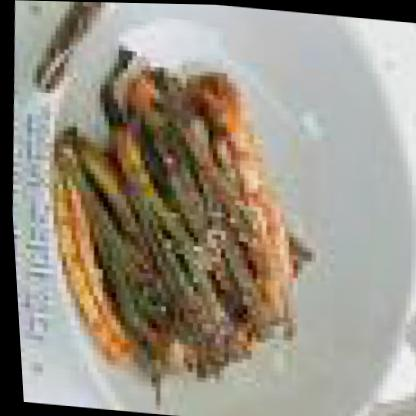green onion Kimchi: (46, 54, 317, 377)
